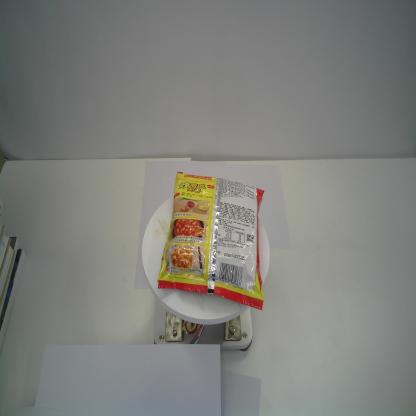Instant Noodles: (157, 170, 266, 314)
